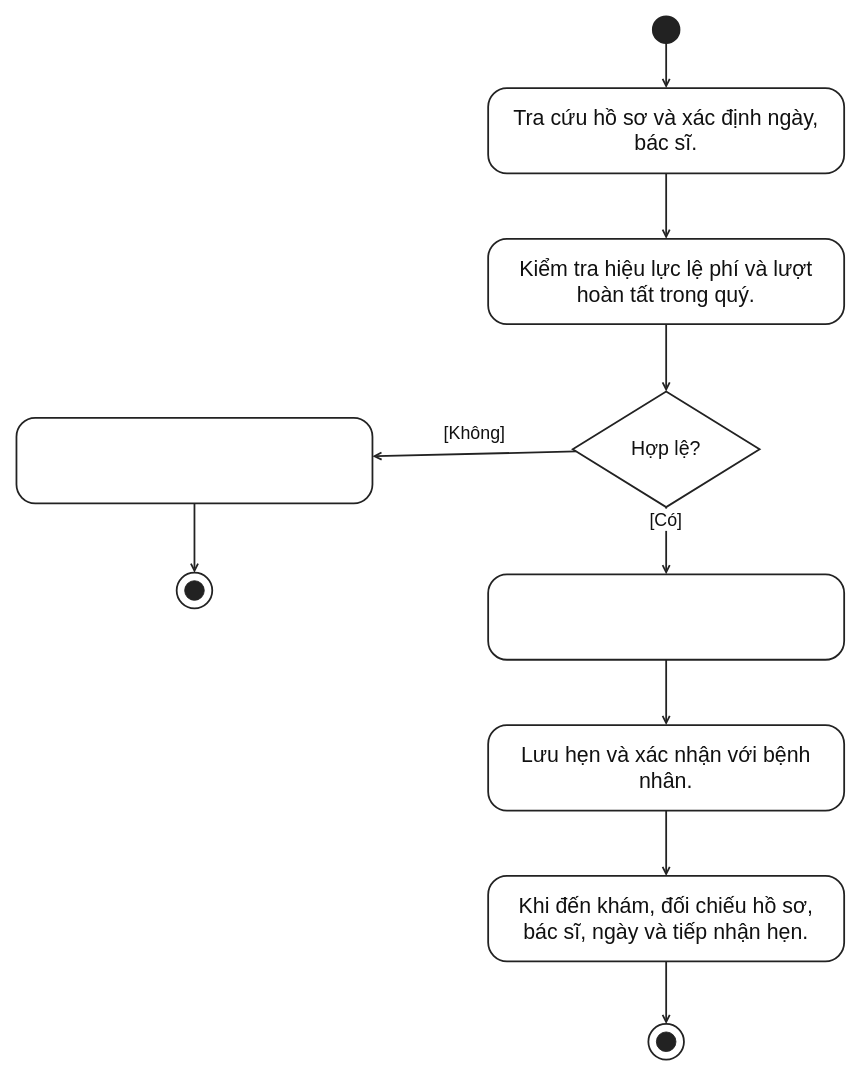
Some shapes in this 860 by 1076 pixel diagram are drawn without their labels. The shapes that lost their labels are listed below. From the top down, each one's centre as x and y in pixels, then its label:
point 194,460: Thông báo lý do Giữ dữ liệu để sửa
point 666,616: Khóa lịch bác sĩ, kiểm tra khoảng giờ trùng.
